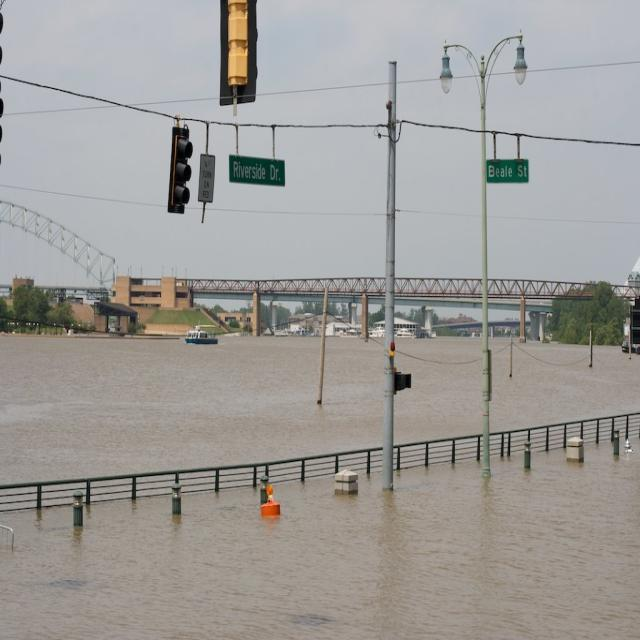traffic light: (173, 130, 189, 210)
